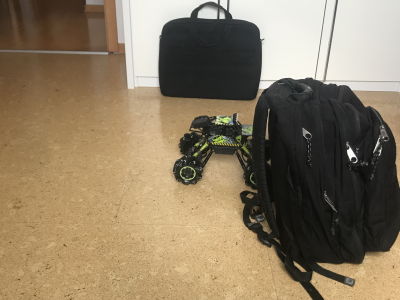remote control car: (171, 109, 260, 190)
